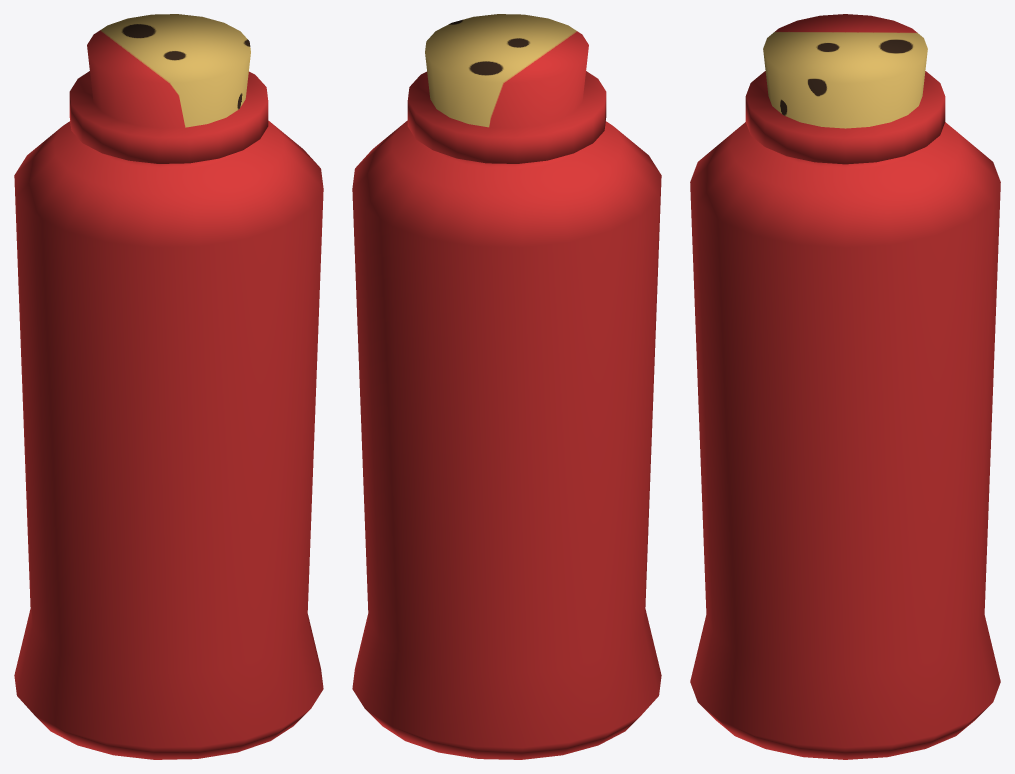
Rendered from Bottle of Something.fbx.
3 renders of one model, left to right at view 1: azimuth 30°, elevation 25°; view 2: azimuth 150°, elevation 25°; view 3: azimuth 270°, elevation 25°, orthographic.
Parts seen in each view (by area): view 1: pCylinder2; view 2: pCylinder2; view 3: pCylinder2.
Boxes of the visible parts, x1,y1,x2,y2 form: pCylinder2: [14, 14, 323, 759]; pCylinder2: [352, 14, 661, 759]; pCylinder2: [690, 14, 1000, 759].
Size of the model in its own units: 11.49 by 26.67 by 11.49.
